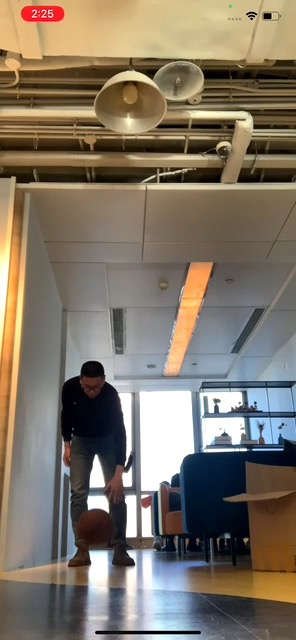ball: (76, 508, 117, 548)
